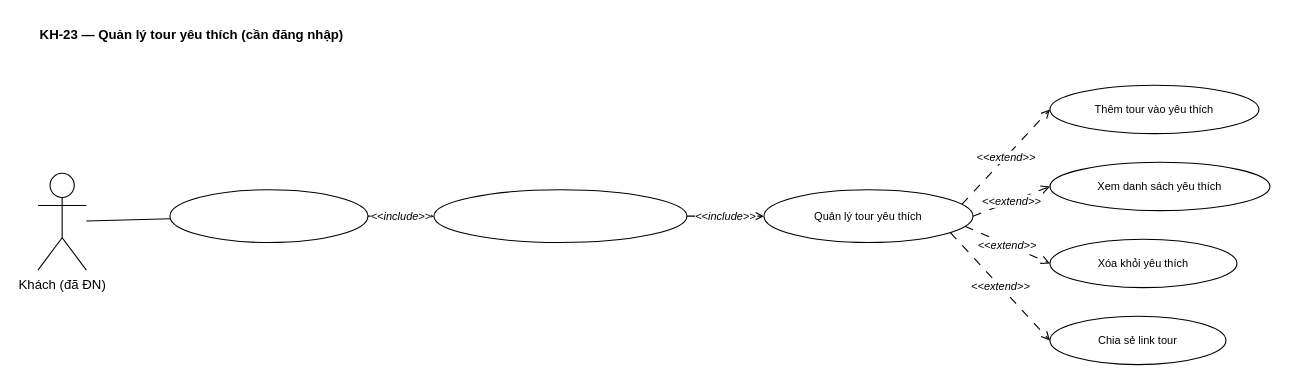
The diagram is 1289 pixels wide and 384 high, and some of its shapes have lost their labels. Each missing label, with the centre of its shape:
"Vào mục yêu thích / tour đã lưu" goes at pixel 560 216.
"Đăng nhập vào ViGo" goes at pixel 268 216.
